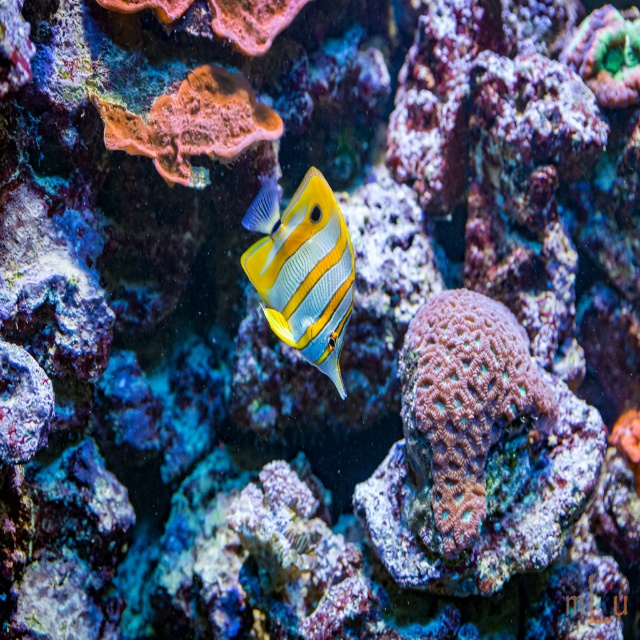Fish: (239, 165, 356, 399)
